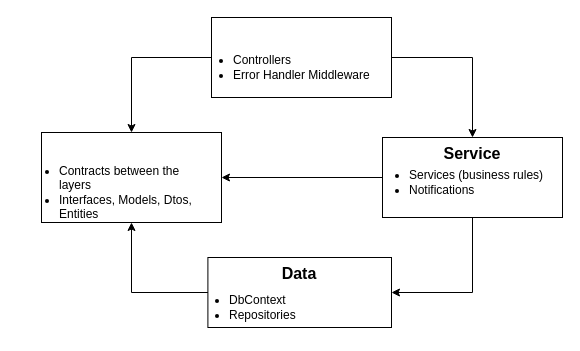
Image size: 580x351. Some labels were removed from this diagram. The box of each missing label's shape, as (x1, y1, x2, y2) in pixels:
Application: (210, 16, 392, 98)
Domain: (40, 132, 222, 222)
